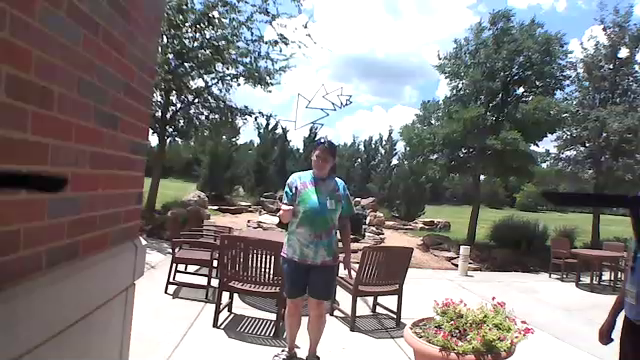land: (271, 198, 299, 216)
